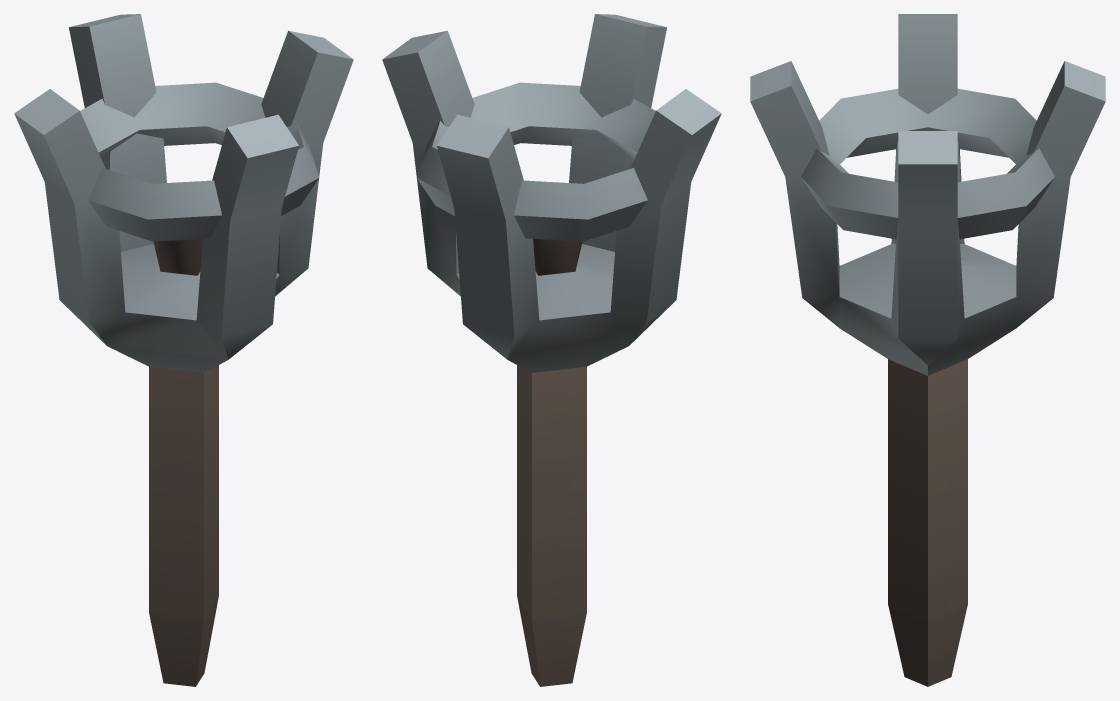
File: torch-gltf.glb
3 views of the same model, side by side, from view 1: azimuth 30°, elevation 25°; view 2: azimuth 150°, elevation 25°; view 3: azimuth 270°, elevation 25° (orthographic).
Parts seen in each view (by area): view 1: torch; view 2: torch; view 3: torch.
Part boxes in pixels (x1,y1,x2,y2): torch: [14, 14, 353, 686]; torch: [382, 14, 721, 686]; torch: [750, 14, 1105, 686].
Bounding box in the file's own units: 0.5503 × 1.04 × 0.5503.
1 material, 1 textured.
